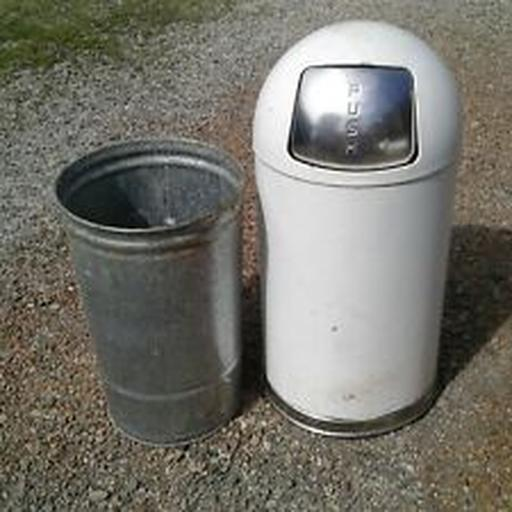Crewmate: (251, 14, 463, 436)
